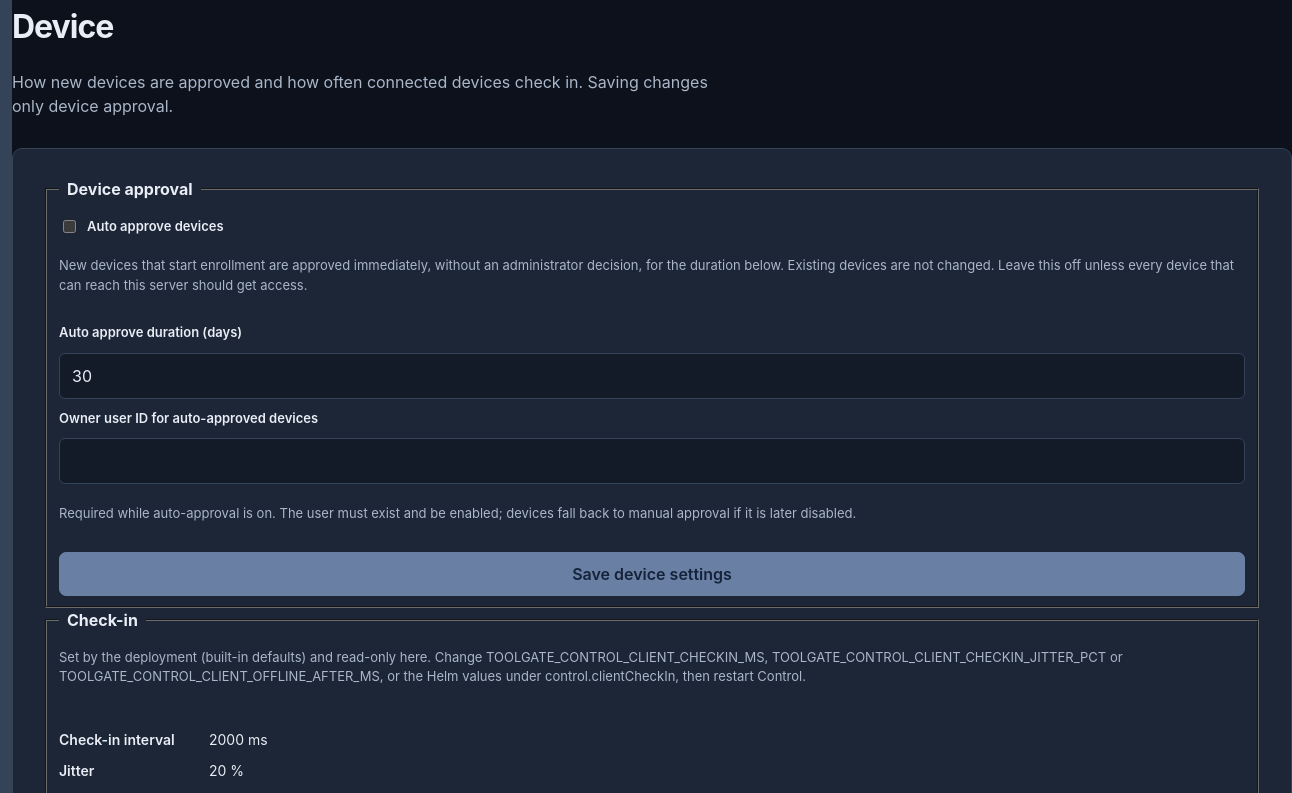
Scenario: Configuration settings pages › Device patches only device approval and shows check-in read-only
Check: the number field labelled "Auto approve duration (days)" holds "30", box [59,353,1245,399]
Check: the text "2000 ms" is shown, box [209,731,268,748]
Click the checkbox labelled "Auto approve devices": (70, 227) [63,220,76,233]
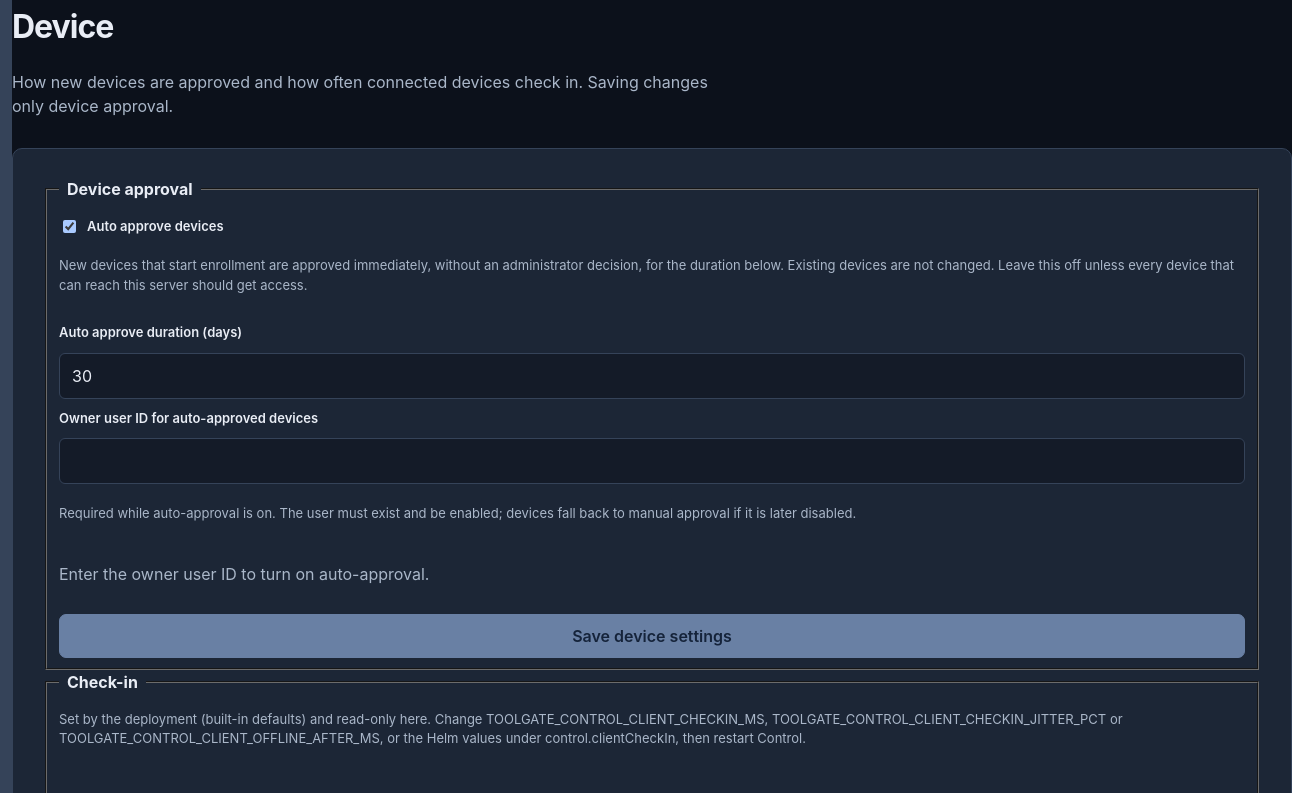
Check: the button "Save device settings" is disabled, box [59,614,1245,658]
In the field labelled "Owner user ID for auto-approved devices": (652, 462) [59,438,1245,484], type "admin"
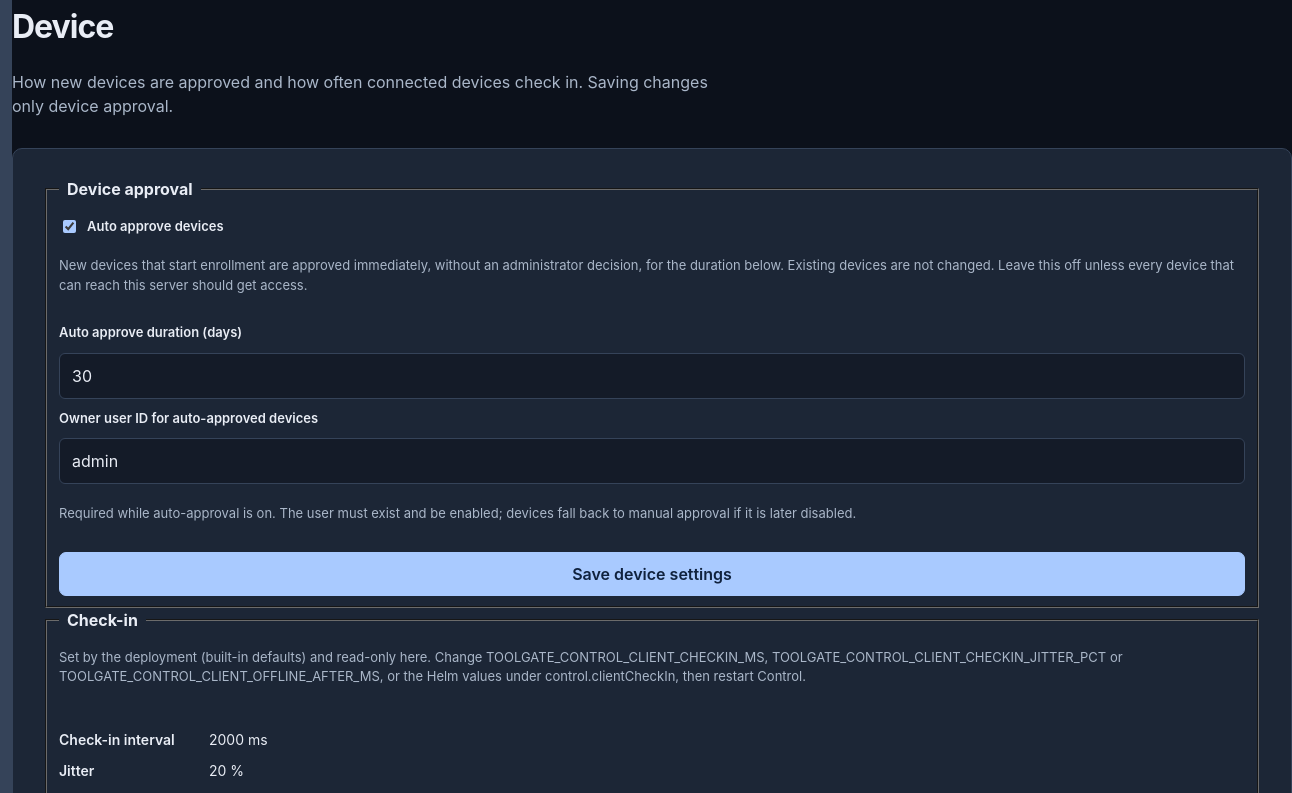
Replace the text in the number field labelled "Auto approve duration (days)" with "7": (652, 376) [59,353,1245,399]
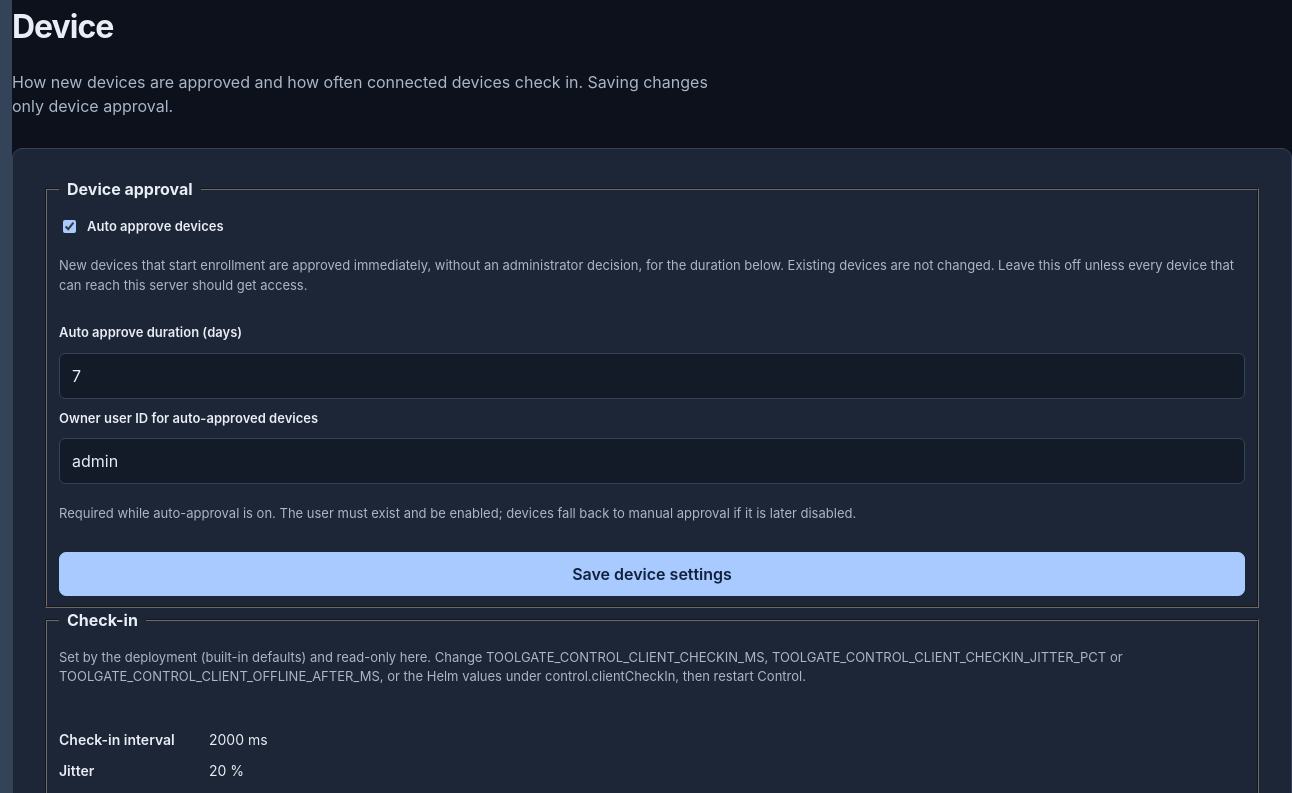
Click the button "Save device settings": (652, 574) [59,552,1245,596]
(page scrolled)
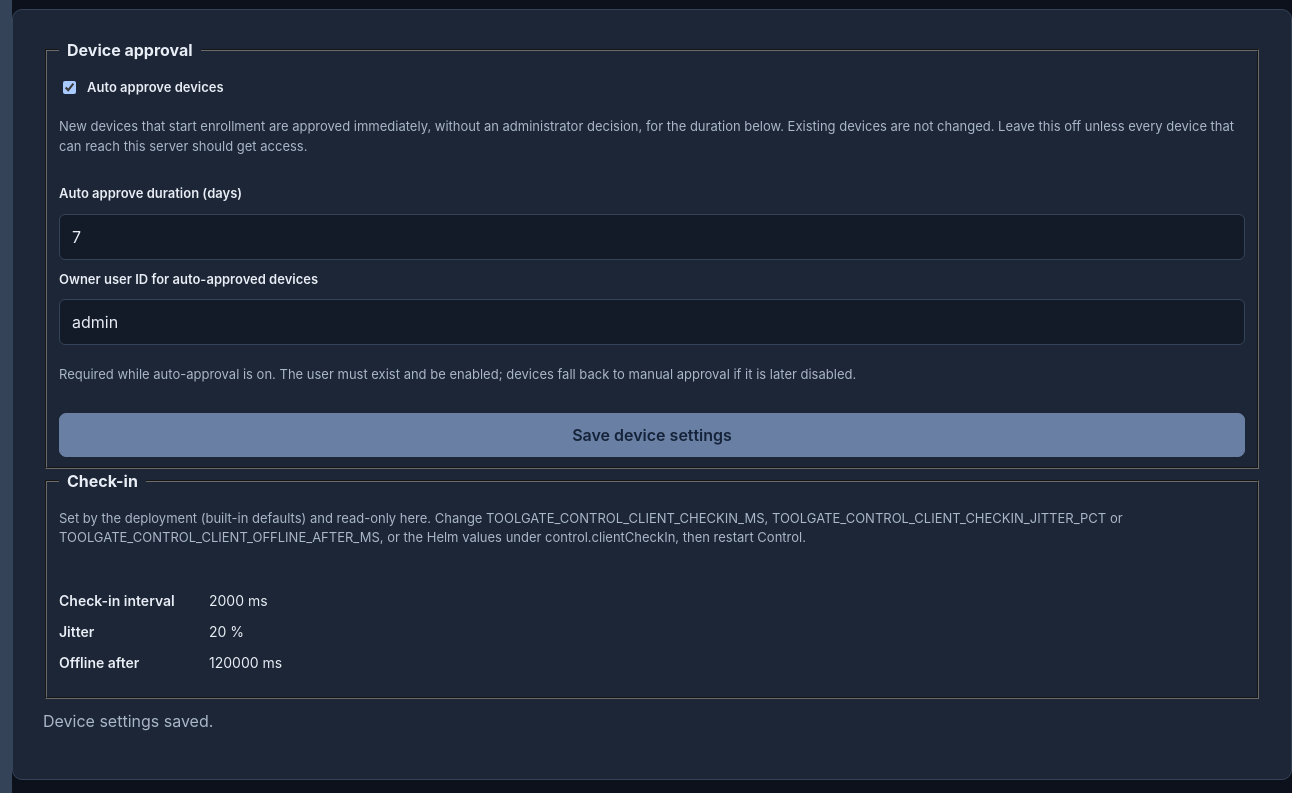
Check: the text "Device settings saved." is shown, box [43,711,213,731]
